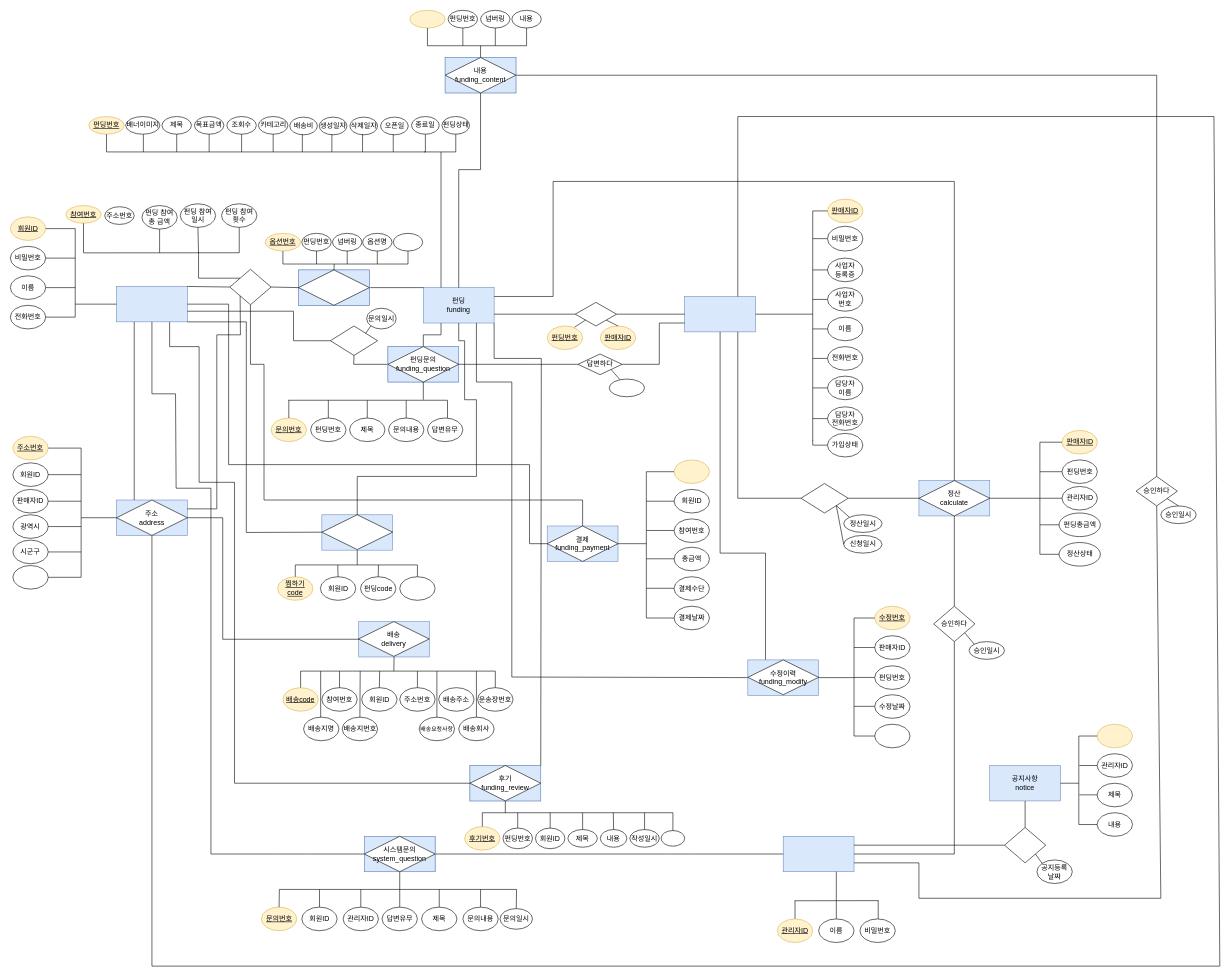
This 1231x977 diagram has some shape labels left out. Each missing label, with the centre of its shape:
결제번호: point 691,471
공지사항 번호: point 1115,736
공지하다: point 1025,845
관리자 admin: point 818,854
내용번호: point 427,19
답변일시: point 627,387
문의하다: point 354,340
상세주소: point 30,577
수정이력: point 892,736
신청하다: point 824,498
오픈하다: point 596,314
옵션 funding_option: point 333,287
옵션가격: point 408,242
찜하기 funding_like: point 357,532
찜한날짜: point 417,588
참여하다 order: point 250,287
판매자(펀딩주최자) seller: point 719,314
평점: point 673,838
회원(구매자) customer: point 151,304
